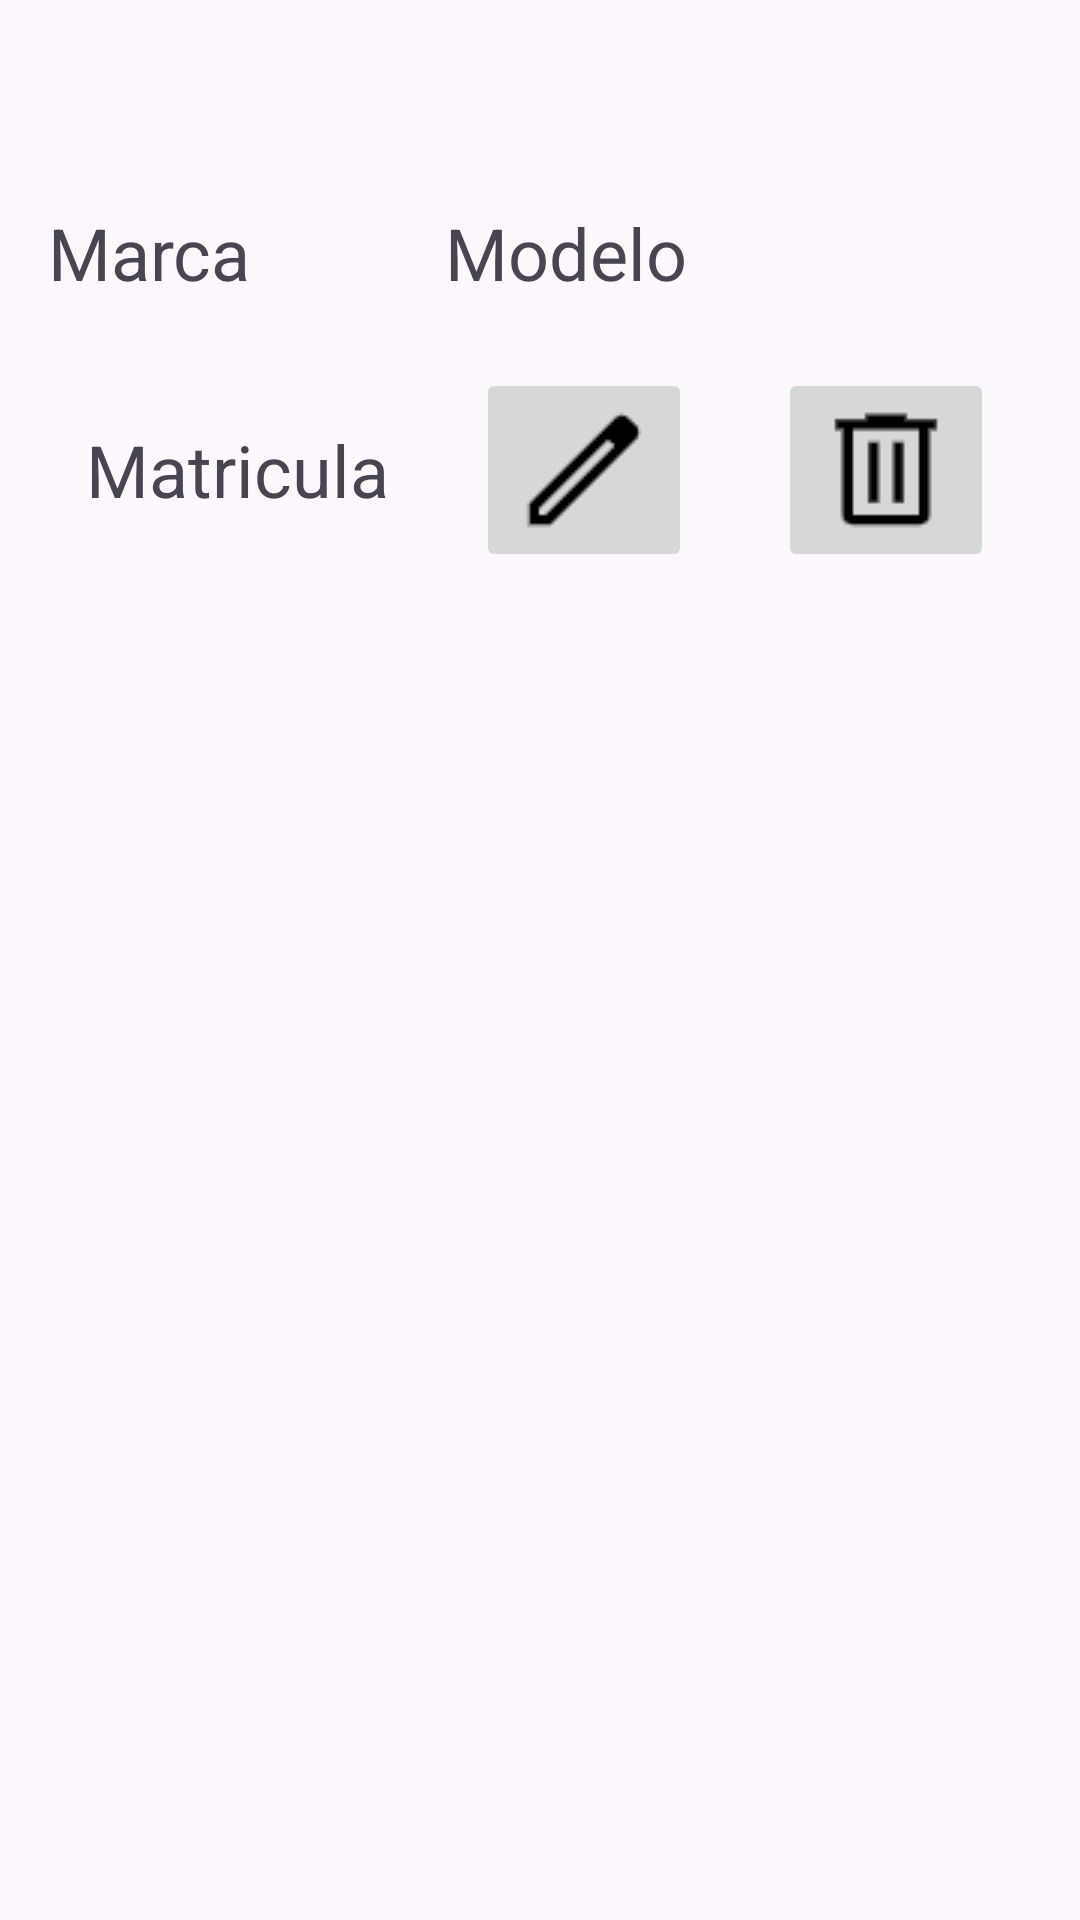

Screen size 1080w x 1920h. Icon name, then its box in pixels as box(x1, y1, x2, y2):
delete: box(790, 386, 982, 554)
edit: box(488, 386, 680, 554)
